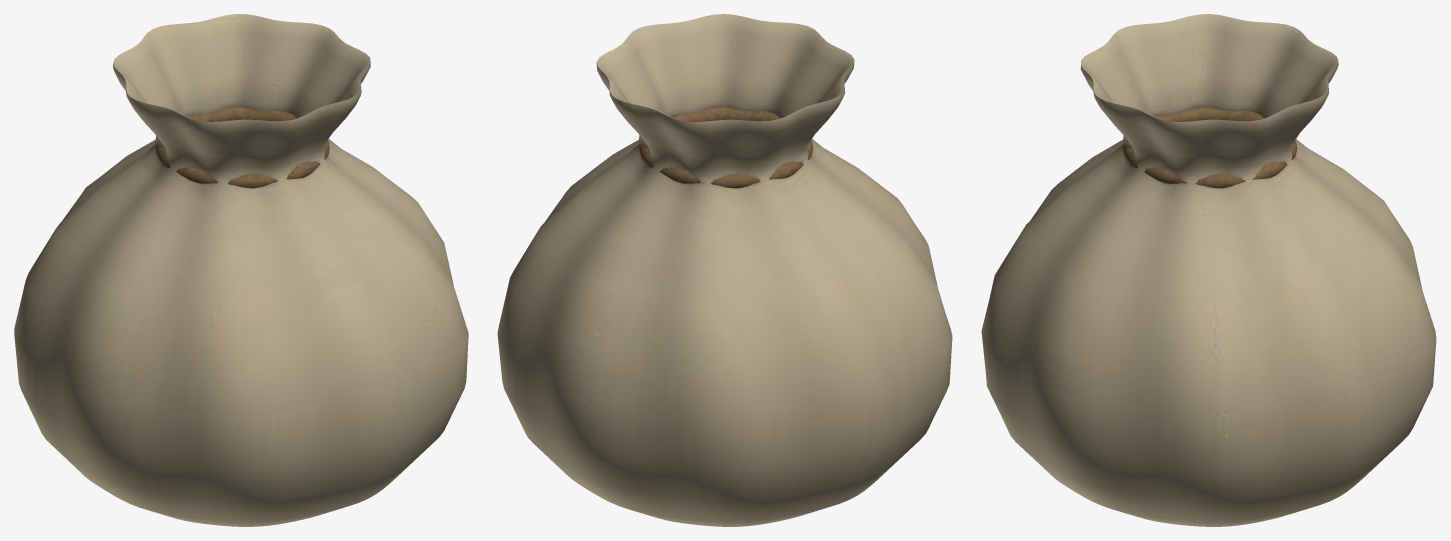
The model's file is sack.glb.
3 views of the same model, side by side, from view 1: azimuth 30°, elevation 25°; view 2: azimuth 150°, elevation 25°; view 3: azimuth 270°, elevation 25° (orthographic).
Visible parts, largest first — view 1: sack; view 2: sack; view 3: sack.
Boxes of the visible parts, left/top/right/bottom form: sack: left=14, top=14, right=468, bottom=526; sack: left=497, top=14, right=952, bottom=526; sack: left=981, top=14, right=1436, bottom=526.
Bounding box in the file's own units: 0.1074 × 0.1126 × 0.1081.
1 material, 1 textured.
